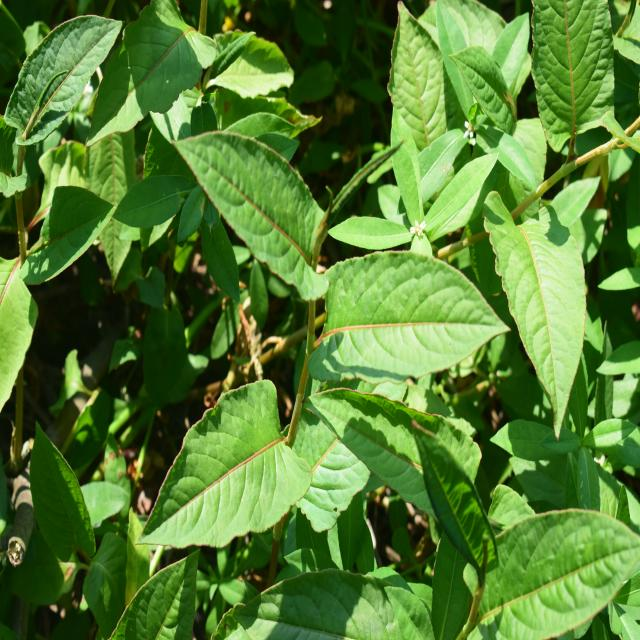Chinese_knotweed: (166, 116, 504, 597)
